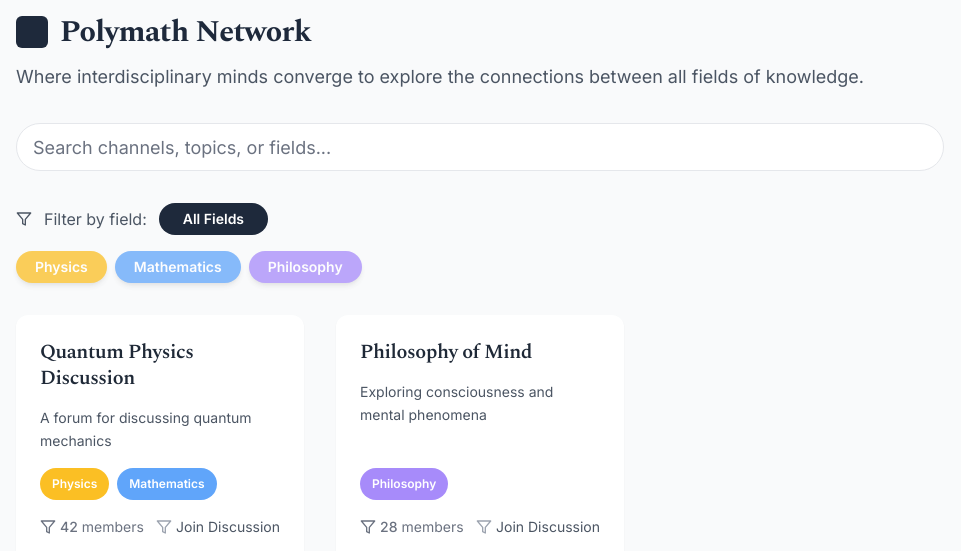
Test: Dashboard › filters channels by a single tag when a tag is clicked
Note: Click the Physics tag filter button (first occurrence)
Click the button "Physics" below "Filter by field:".
click(61, 267)  # box 16,251 -> 107,283
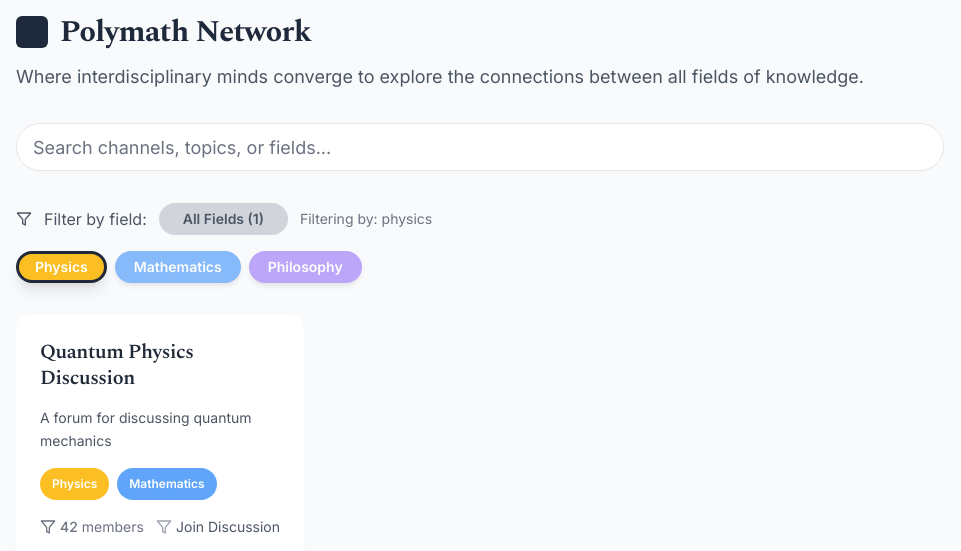
Expected: the heading "Quantum Physics Discussion" is shown, 40,337 -> 194,393
Now the link "Philosophy of Mind" is gone
